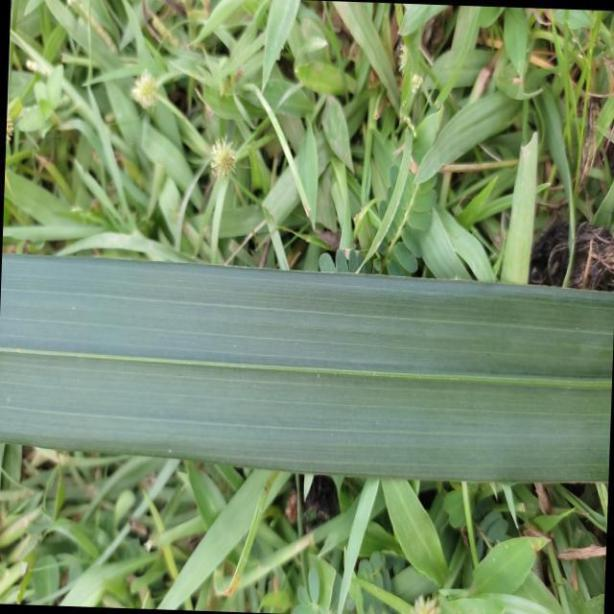Healthy: (0, 250, 614, 484)
